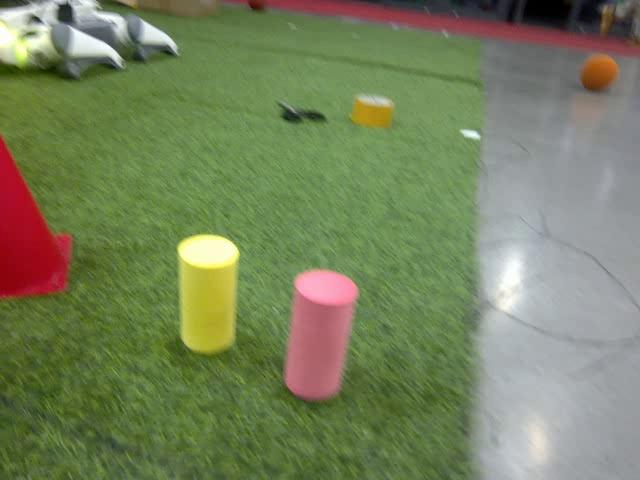orange_ball: (580, 56, 620, 94)
red_cylinder: (280, 267, 359, 404)
yellow_cylinder: (177, 233, 238, 356)
